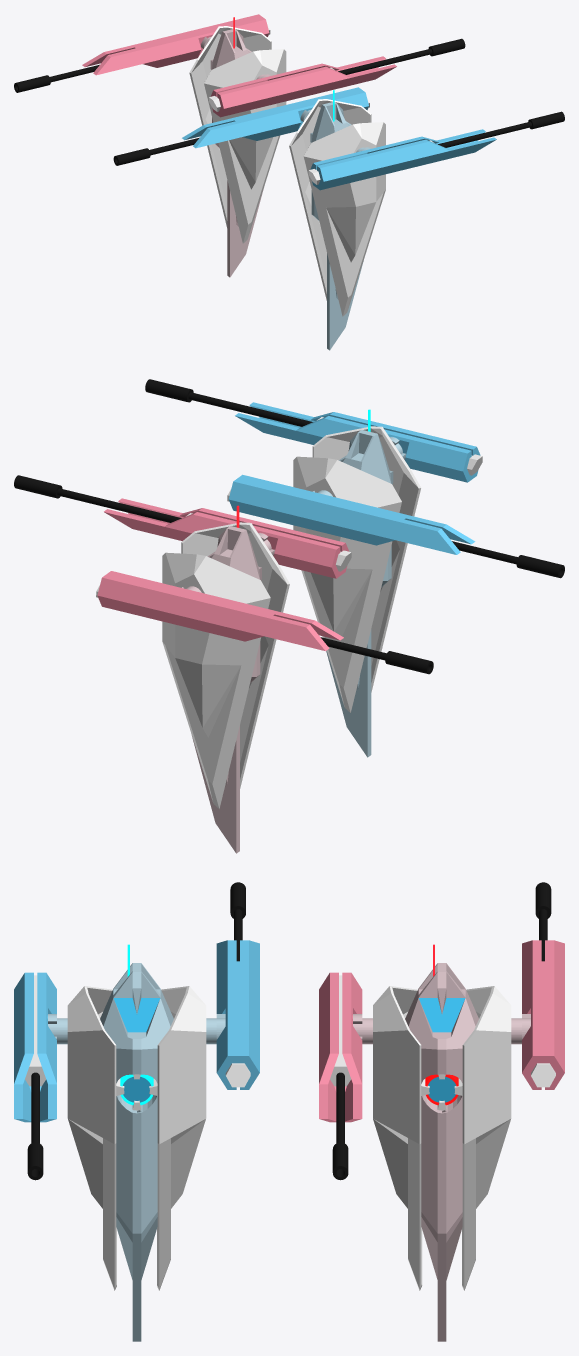
File: Robot.FBX
3 renders of one model, top to bottom at view 1: azimuth 30°, elevation 25°; view 2: azimuth 150°, elevation 25°; view 3: azimuth 270°, elevation 25°, orthographic. The views are drawn at different scales.
Parts seen in each view (by area): view 1: Shield-R, Shield-R001, Gun-R, Gun-R001, Gun-L, Gun-R002, Shield-L, Shield-L001, Body, Body001, Gun-Barrel, Gun-Barrel_001 (+2 smaller); view 2: Shield-L001, Shield-L, Gun-R002, Gun-L, Gun-R, Gun-R001, Shield-R001, Shield-R, Body, Body001, Gun-Barrel_001, Gun-Barrel (+2 smaller); view 3: Body001, Body, Shield-L001, Shield-R, Shield-L, Shield-R001, Gun-L, Gun-R002, Gun-R001, Gun-R, Gun-Barrel_001, Gun-Barrel (+4 smaller).
Boxes of the visible parts, <box> form: Shield-R: <box>303,122,385,316</box>; Shield-R001: <box>204,49,286,243</box>; Gun-R: <box>310,129,496,190</box>; Gun-R001: <box>210,56,396,117</box>; Gun-L: <box>182,87,368,148</box>; Gun-R002: <box>82,14,269,75</box>; Shield-L: <box>289,99,371,300</box>; Shield-L001: <box>189,26,271,227</box>; Body: <box>310,102,363,350</box>; Body001: <box>210,29,263,277</box>; Gun-Barrel: <box>338,38,465,74</box>; Gun-Barrel_001: <box>438,111,564,147</box>; Shield-L001: <box>162,552,270,808</box>; Shield-L: <box>293,456,401,712</box>; Gun-R002: <box>97,571,343,651</box>; Gun-L: <box>228,474,475,554</box>; Gun-R: <box>235,402,480,482</box>; Gun-R001: <box>104,498,349,578</box>; Shield-R001: <box>181,522,289,788</box>; Shield-R: <box>312,426,420,692</box>; Body: <box>326,430,393,757</box>; Body001: <box>191,526,261,853</box>; Gun-Barrel_001: <box>145,379,312,426</box>; Gun-Barrel: <box>14,475,181,522</box>; Body001: <box>405,963,478,1341</box>; Body: <box>100,963,173,1341</box>; Shield-L001: <box>462,986,511,1290</box>; Shield-R: <box>67,986,116,1290</box>; Shield-L: <box>157,986,206,1290</box>; Shield-R001: <box>373,986,422,1290</box>; Gun-L: <box>216,940,259,1089</box>; Gun-R002: <box>522,940,564,1089</box>; Gun-R001: <box>319,972,362,1122</box>; Gun-R: <box>14,972,56,1122</box>; Gun-Barrel_001: <box>27,1072,43,1180</box>; Gun-Barrel: <box>332,1072,348,1180</box>.
Size of what is drawn, in the model's own units: 61.23 by 40.11 by 50.26.
